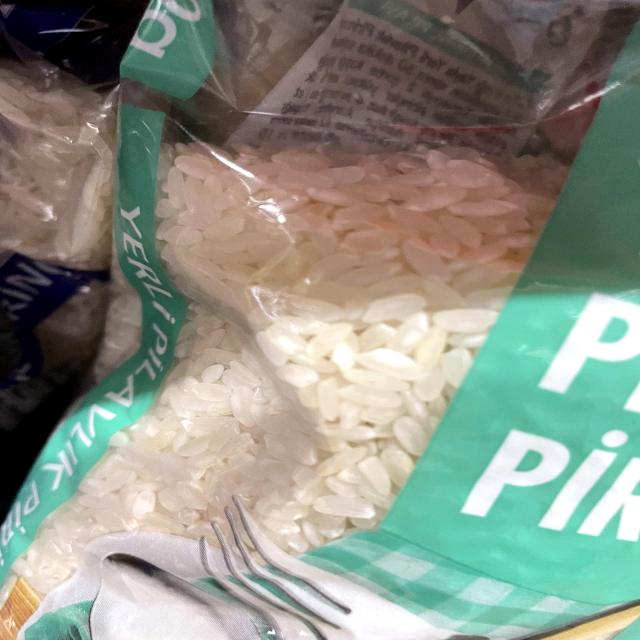rice: (186, 190, 430, 466)
